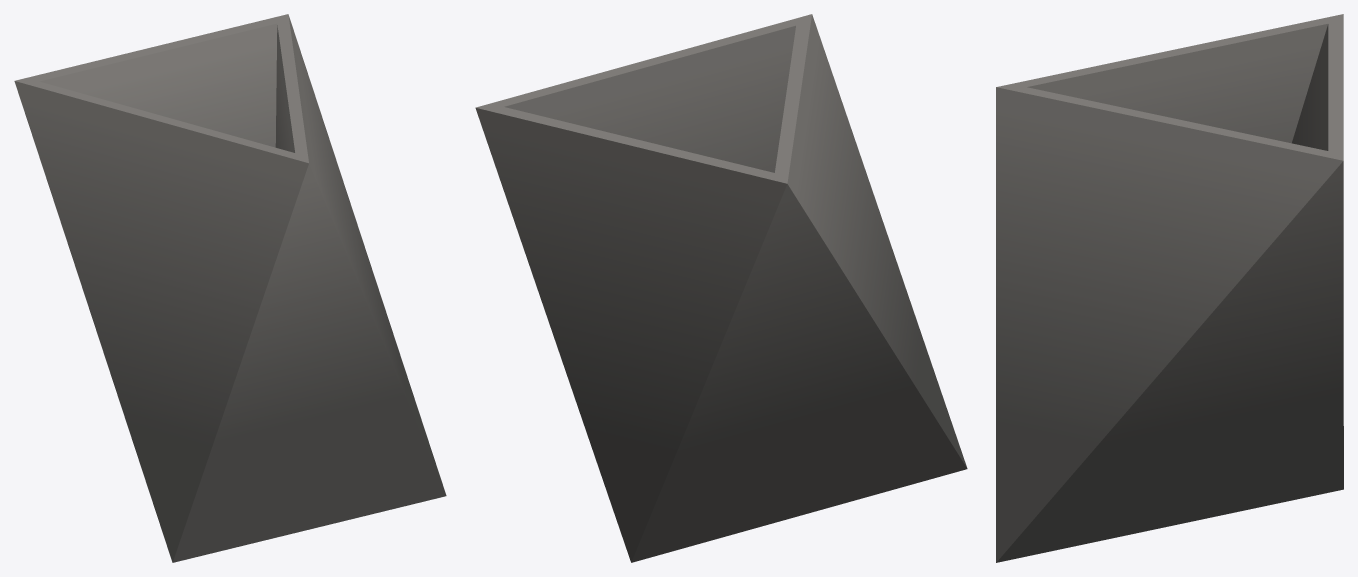
The model's file is PlantPot_18.fbx.
3 views of the same model, side by side, from view 1: azimuth 30°, elevation 25°; view 2: azimuth 150°, elevation 25°; view 3: azimuth 270°, elevation 25° (orthographic). The views are drawn at different scales.
Parts seen in each view (by area): view 1: PlantPot_18; view 2: PlantPot_18; view 3: PlantPot_18.
Part boxes in pixels (left/top/right/bottom): PlantPot_18: left=14, top=14, right=446, bottom=562; PlantPot_18: left=475, top=14, right=967, bottom=562; PlantPot_18: left=996, top=14, right=1343, bottom=562.
Bounding box in the file's own units: 13.85 × 17.69 × 13.87.
